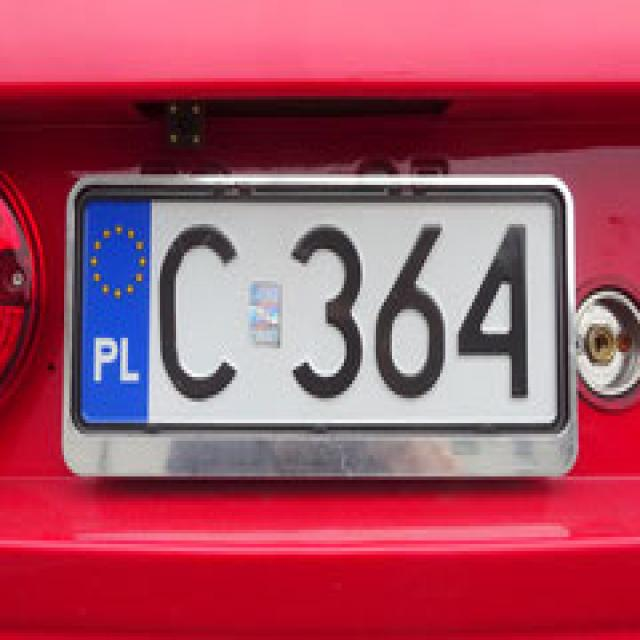pl_license_plate: (77, 192, 560, 423)
